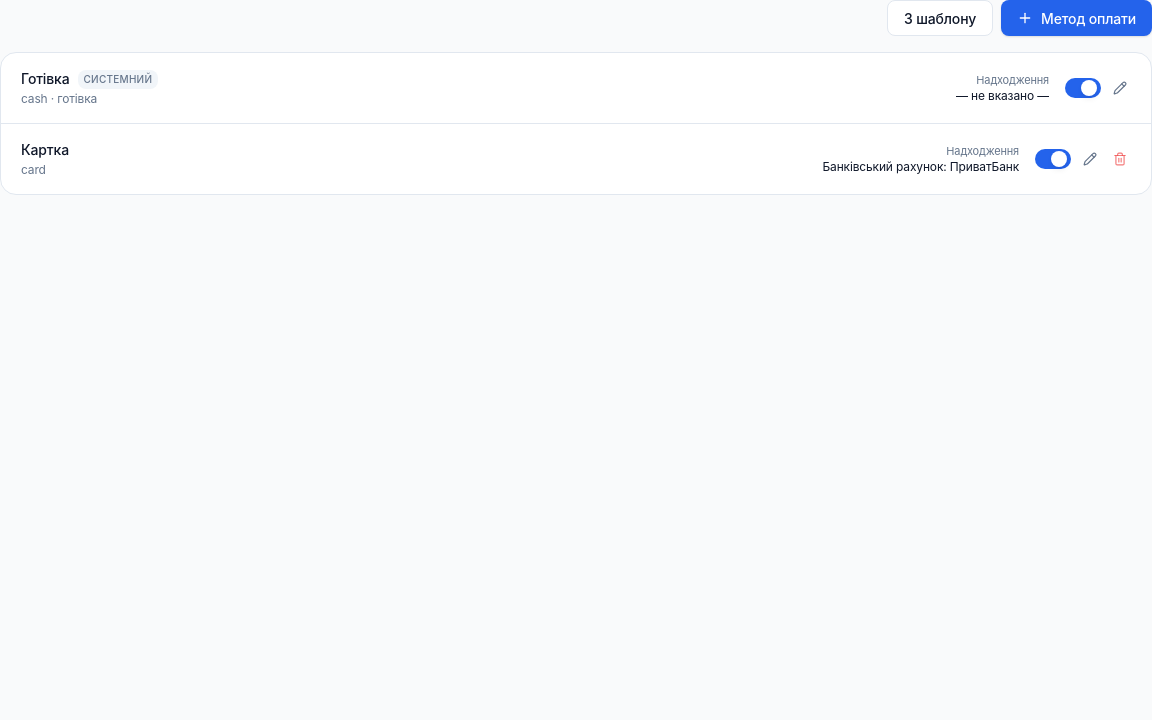
Test case: НДІ → способи оплати: куди надходять кошти › помилка попередньої спроби зникає після успішного додавання
The width and height of the screenshot is (1152, 720).
Click the button "Метод оплати" at (1077, 18), box [1001,0,1151,36]
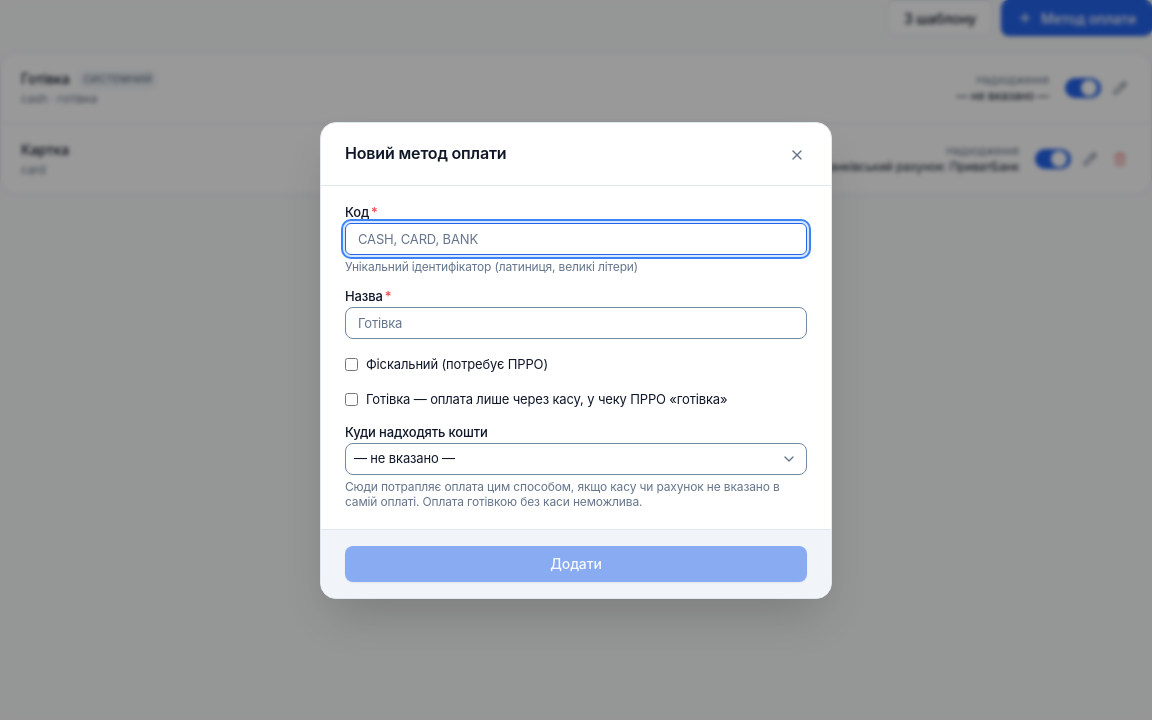
Type "cash2" into the field labelled "Код*" at (576, 238), box [345,222,807,254]
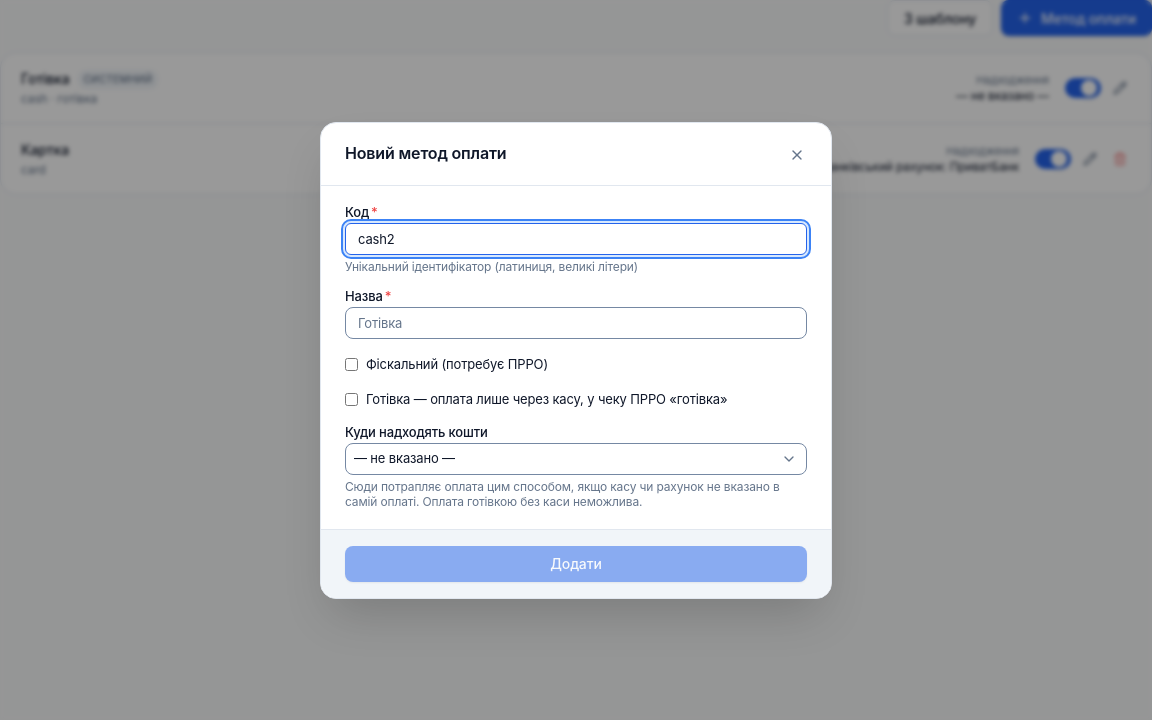
Type "Каса 2" into the field labelled "Назва*" at (576, 322), box [345,306,807,338]
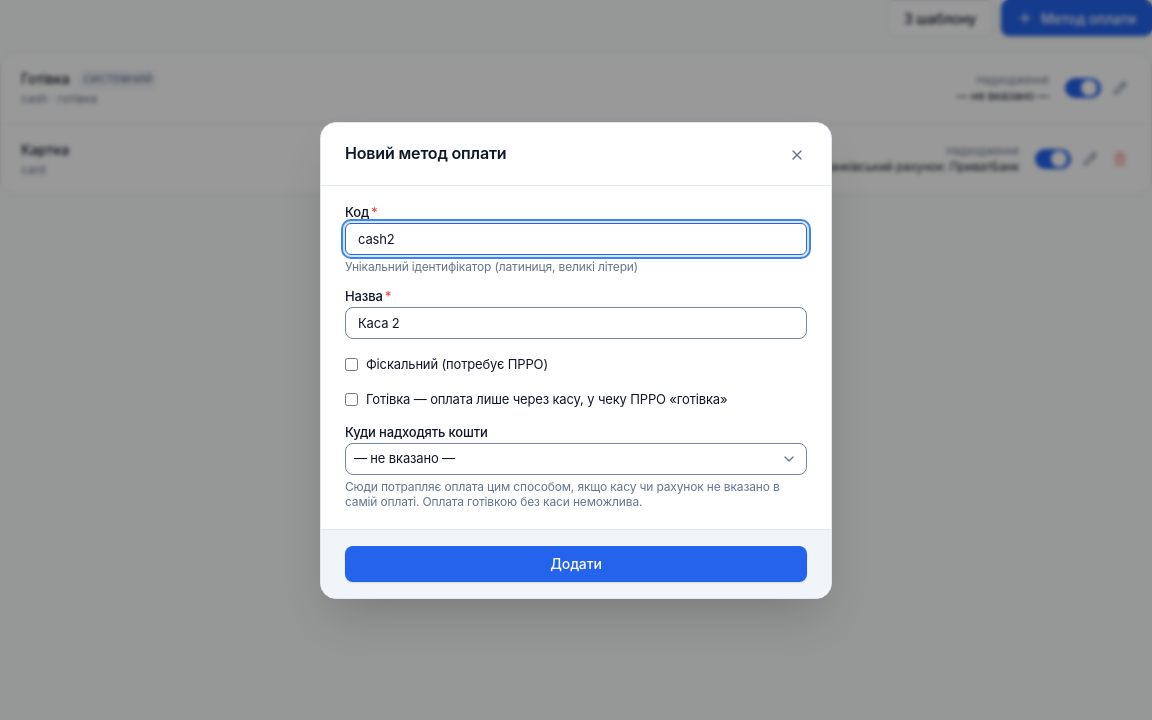
Click the button "Додати" at (576, 564), box [345,546,807,582]
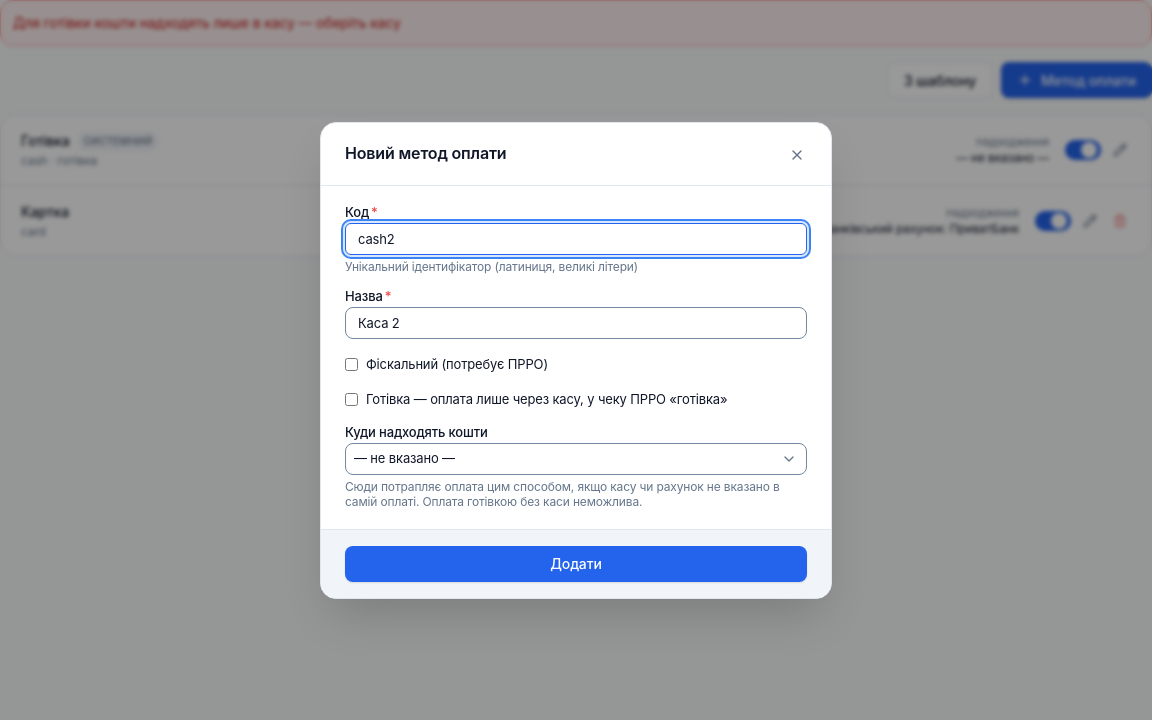
Result: the text "Для готівки кошти надходять лише в касу — оберіть касу" is shown at [0,0,1151,46]
Click the button "Додати" at (576, 564), box [345,546,807,582]
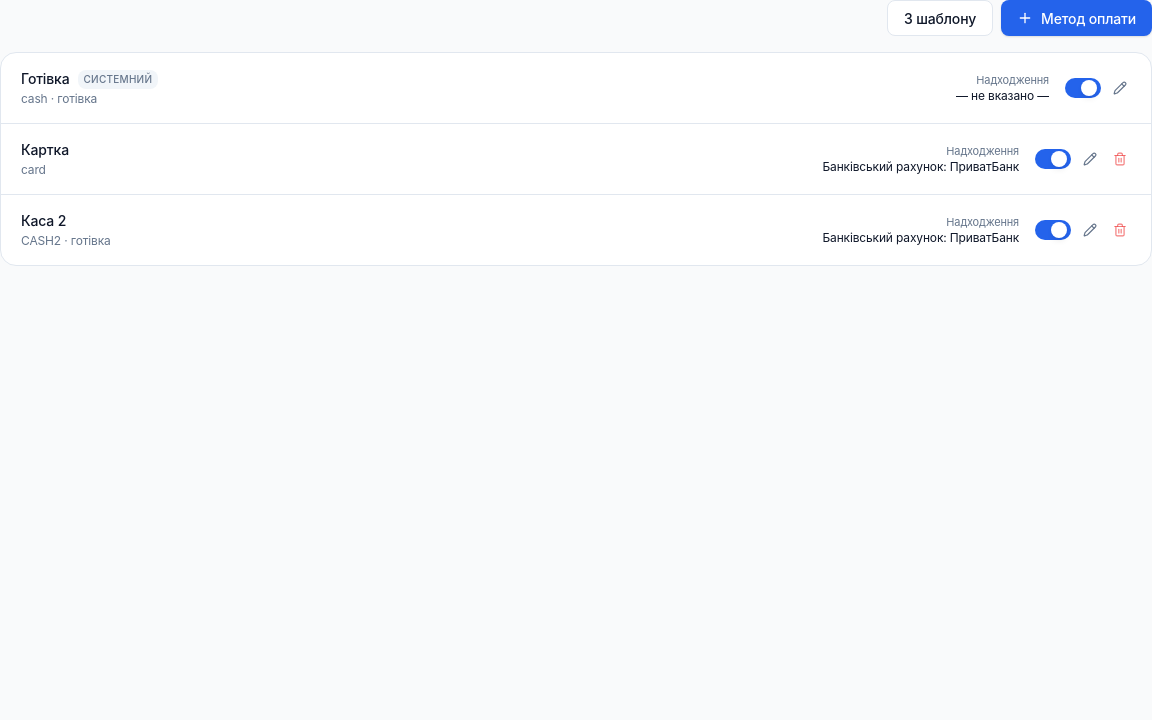
Result: the dialog is gone
Result: the text "Для готівки кошти надходять лише в касу — оберіть касу" is gone
